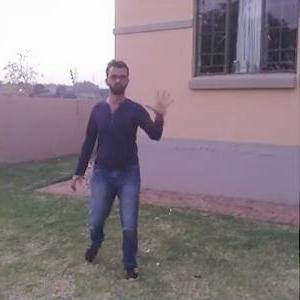follow_hand: (145, 83, 178, 118)
